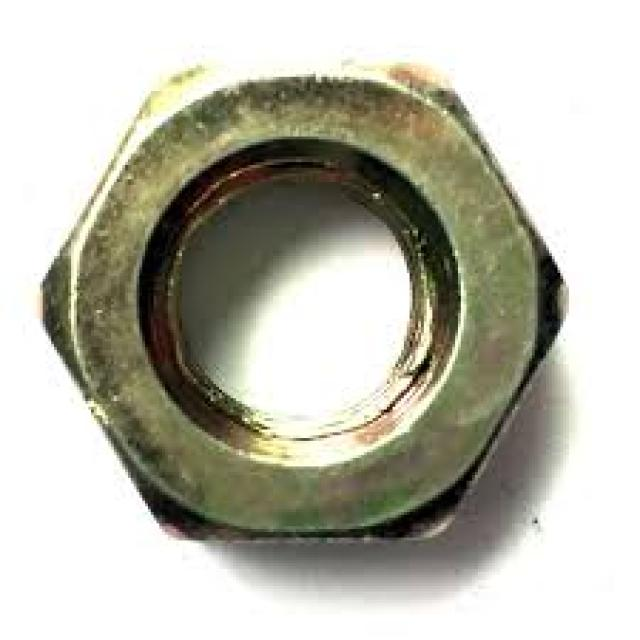Dry Waste: (19, 38, 591, 574)
